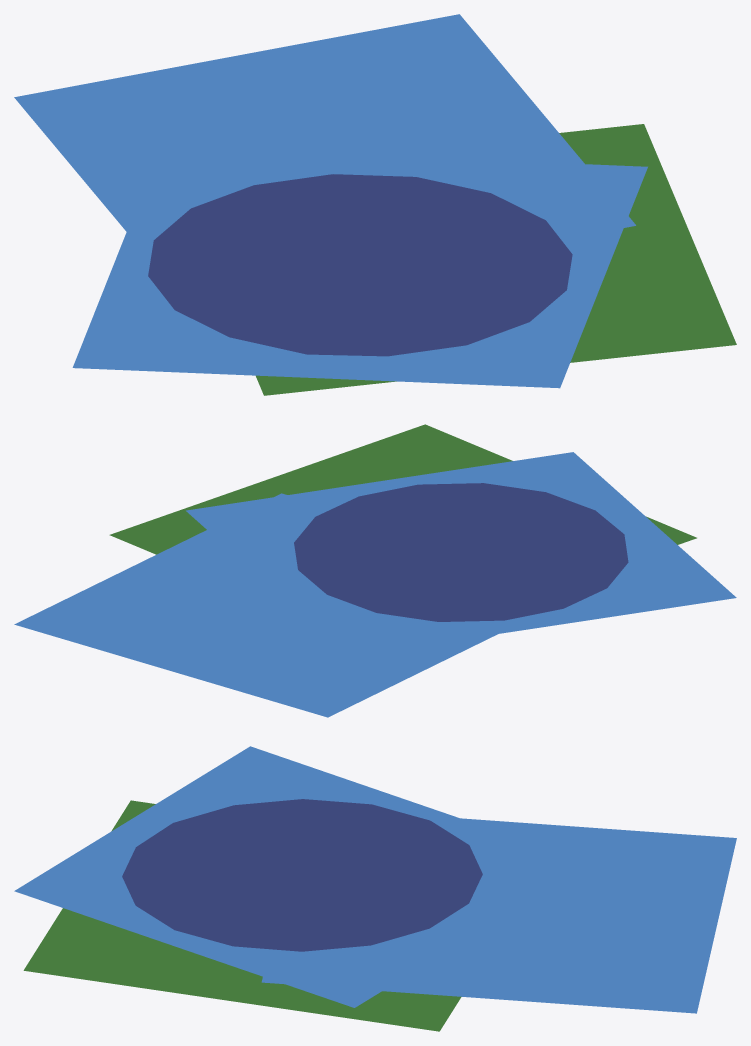
Rendered from Vinyls_2.fbx.
3 views of the same model, one above another, from view 1: azimuth 30°, elevation 25°; view 2: azimuth 150°, elevation 25°; view 3: azimuth 270°, elevation 25° (orthographic). The views are drawn at different scales.
Visible parts, largest first — view 1: Vinyls_2; view 2: Vinyls_2; view 3: Vinyls_2.
Boxes of the visible parts, x1,y1,x2,y2 form: Vinyls_2: (14, 14, 736, 395); Vinyls_2: (14, 424, 736, 717); Vinyls_2: (14, 746, 736, 1031).
Bounding box in the file's own units: 40.77 × 44.27 × 0.6638.
